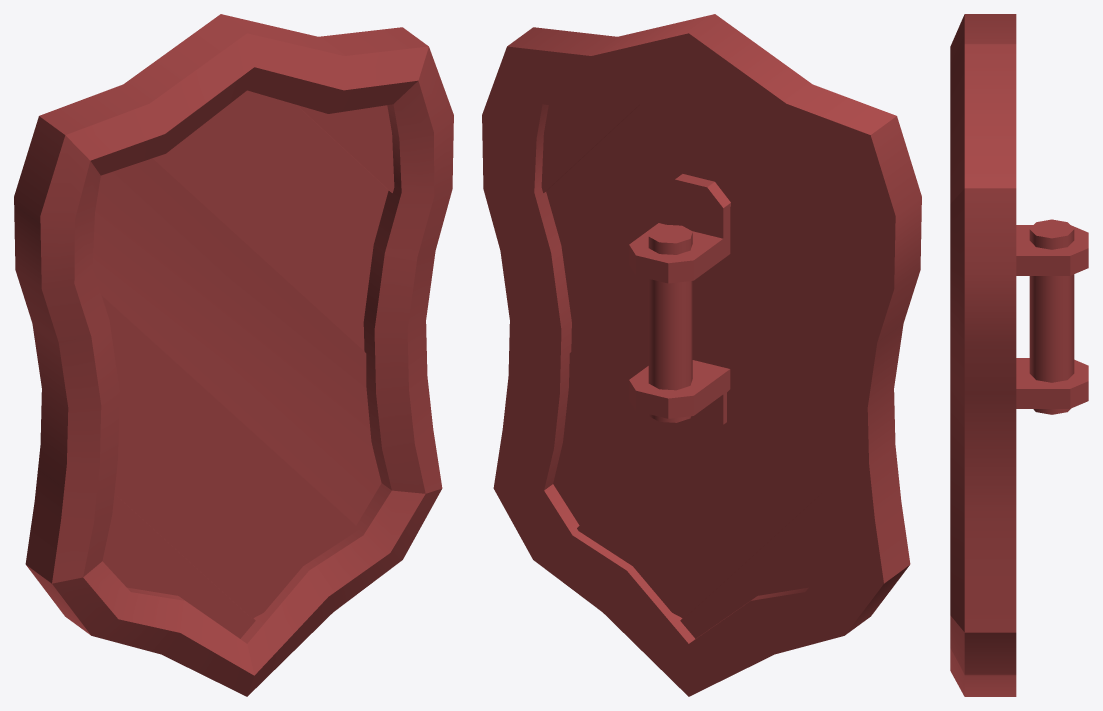
Rendered from Knight_Shield_Undead.fbx.
3 views of the same model, side by side, from view 1: azimuth 30°, elevation 25°; view 2: azimuth 150°, elevation 25°; view 3: azimuth 270°, elevation 25° (orthographic).
Visible parts, largest first — view 1: Knight_Shield_Undead; view 2: Knight_Shield_Undead; view 3: Knight_Shield_Undead.
Boxes of the visible parts, x1,y1,x2,y2 form: Knight_Shield_Undead: [14, 14, 453, 696]; Knight_Shield_Undead: [482, 14, 921, 696]; Knight_Shield_Undead: [950, 14, 1088, 696].
Bounding box in the file's own units: 67.72 × 104 × 19.94.
